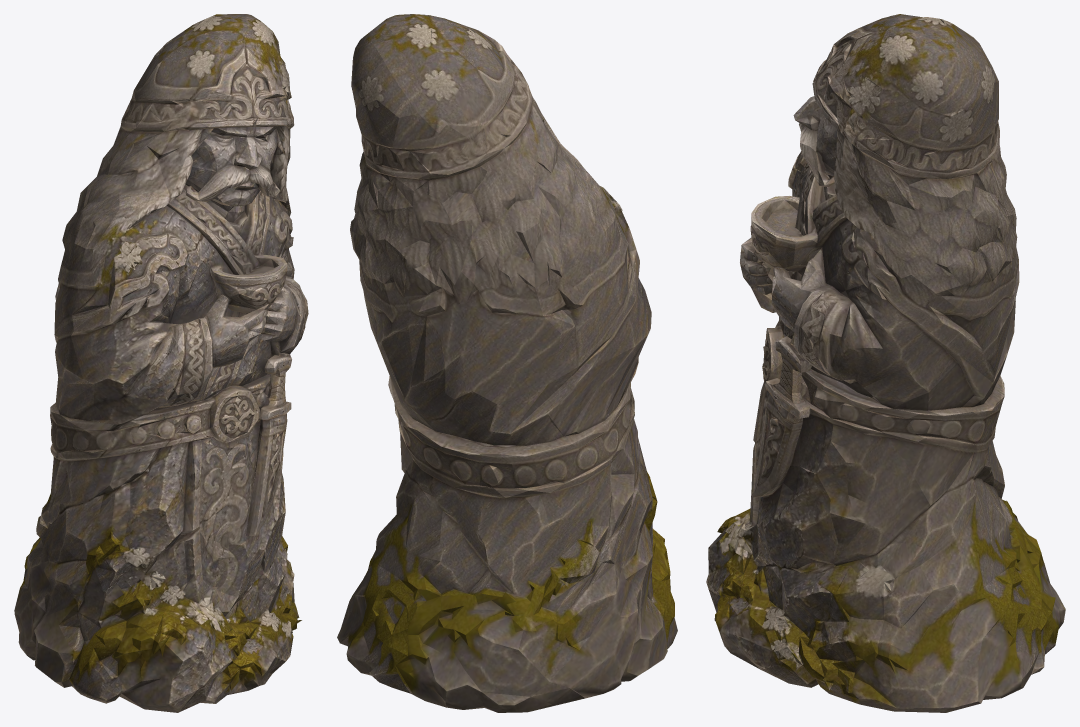
The model's file is n_balbal.glb.
3 views of the same model, side by side, from view 1: azimuth 30°, elevation 25°; view 2: azimuth 150°, elevation 25°; view 3: azimuth 270°, elevation 25° (orthographic). The views are drawn at different scales.
Parts seen in each view (by area): view 1: output_unwrapped; view 2: output_unwrapped; view 3: output_unwrapped.
Boxes of the visible parts, left/top/right/bottom form: output_unwrapped: left=14, top=14, right=308, bottom=712; output_unwrapped: left=337, top=14, right=677, bottom=712; output_unwrapped: left=706, top=14, right=1065, bottom=712.
Bounding box in the file's own units: 0.8986 × 1.9 × 0.9357.
Materials: 1 (1 with a texture image).
